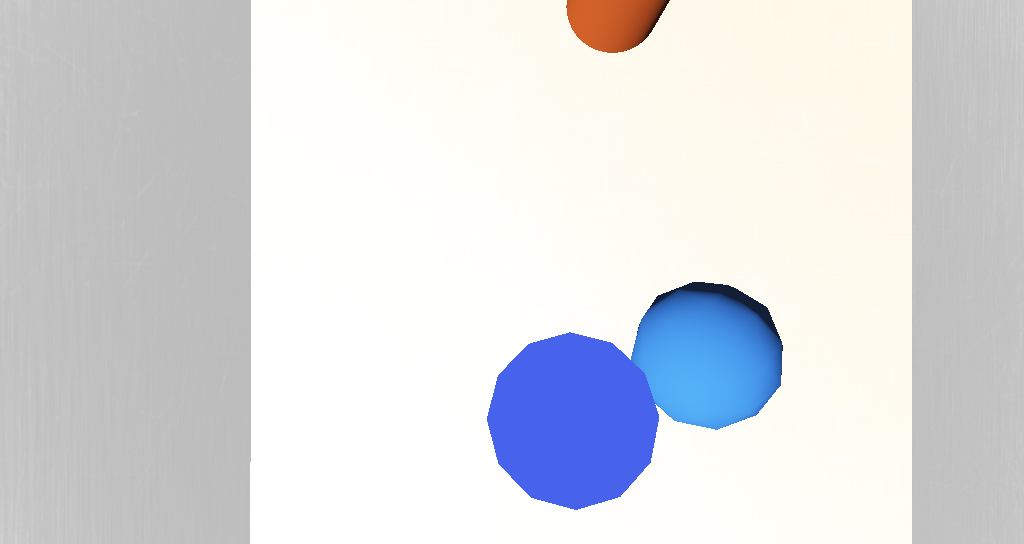cone: (502, 157, 549, 196)
cylinder: (468, 286, 529, 344)
sphere: (529, 267, 589, 315)
